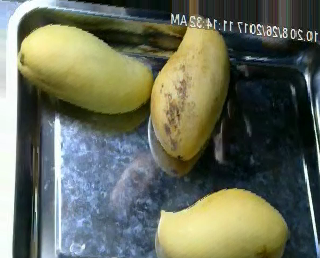Mango: (147, 14, 230, 159), (18, 24, 152, 112), (155, 187, 288, 257)
